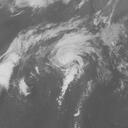cyclone: (52, 32, 92, 71)
